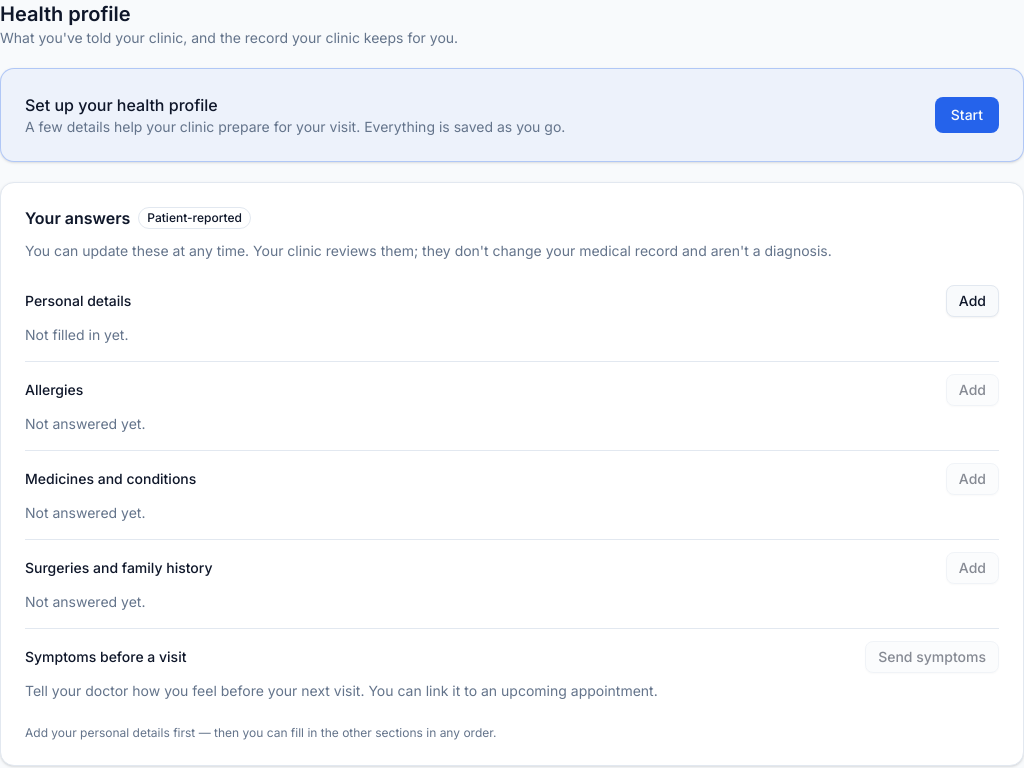
Scenario: health profile and bills › before personal details are saved, only the guided setup is offered; a load failure is an error with retry
Expected: the element with test id "profile-setup" shows "Set up your health profile", [25, 95, 218, 115]
Click the button "Start". click: (967,115)
box: [935, 97, 999, 133]
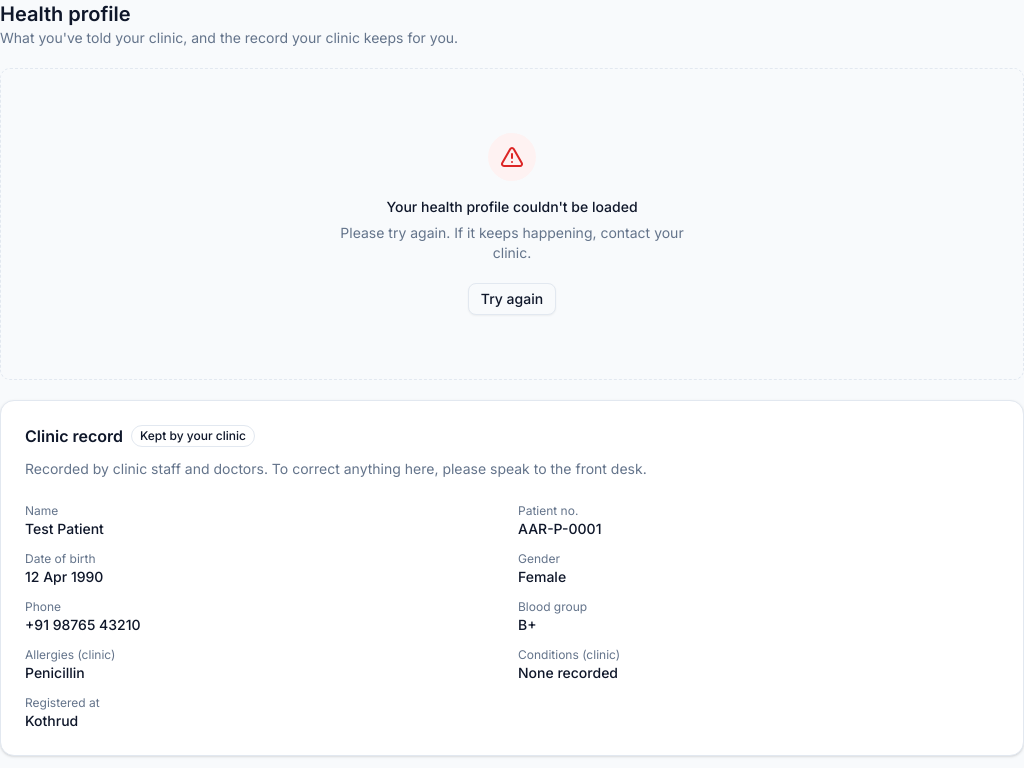
Expected: the text "Your health profile couldn't be loaded" is shown, [386, 197, 638, 217]
